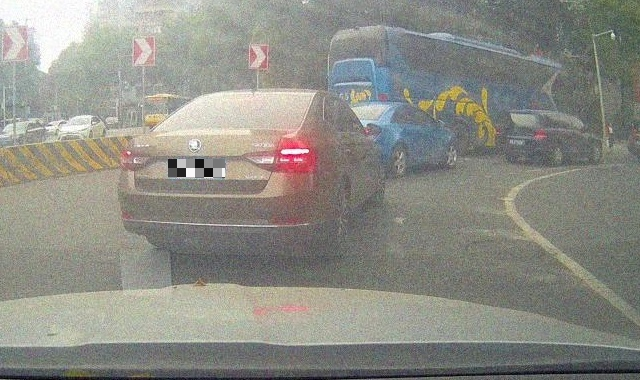L_light: (119, 148, 146, 170), (495, 125, 501, 135)
R_light: (278, 146, 309, 169), (535, 130, 545, 137)
T_light: (242, 93, 267, 98), (516, 113, 525, 116)
day-no: (494, 110, 547, 166)
day-right: (116, 89, 317, 262)
plate_1: (168, 159, 225, 178)
